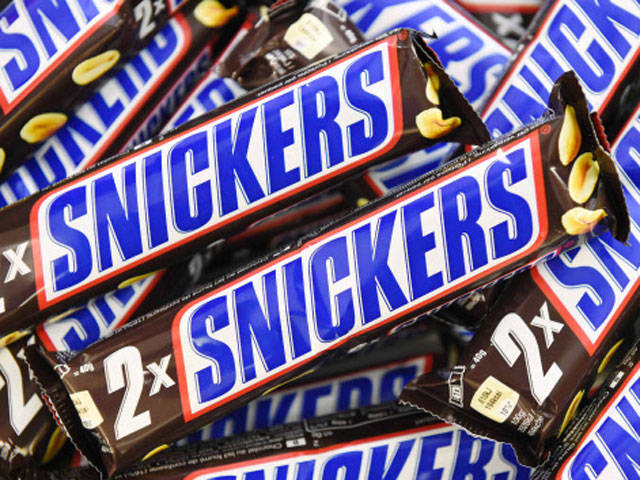snickers: (187, 148, 535, 406), (45, 46, 385, 288), (0, 27, 186, 207), (0, 19, 176, 207), (543, 114, 639, 341), (209, 415, 531, 478), (178, 363, 419, 444), (341, 0, 510, 103), (0, 0, 120, 98), (8, 0, 120, 98)
